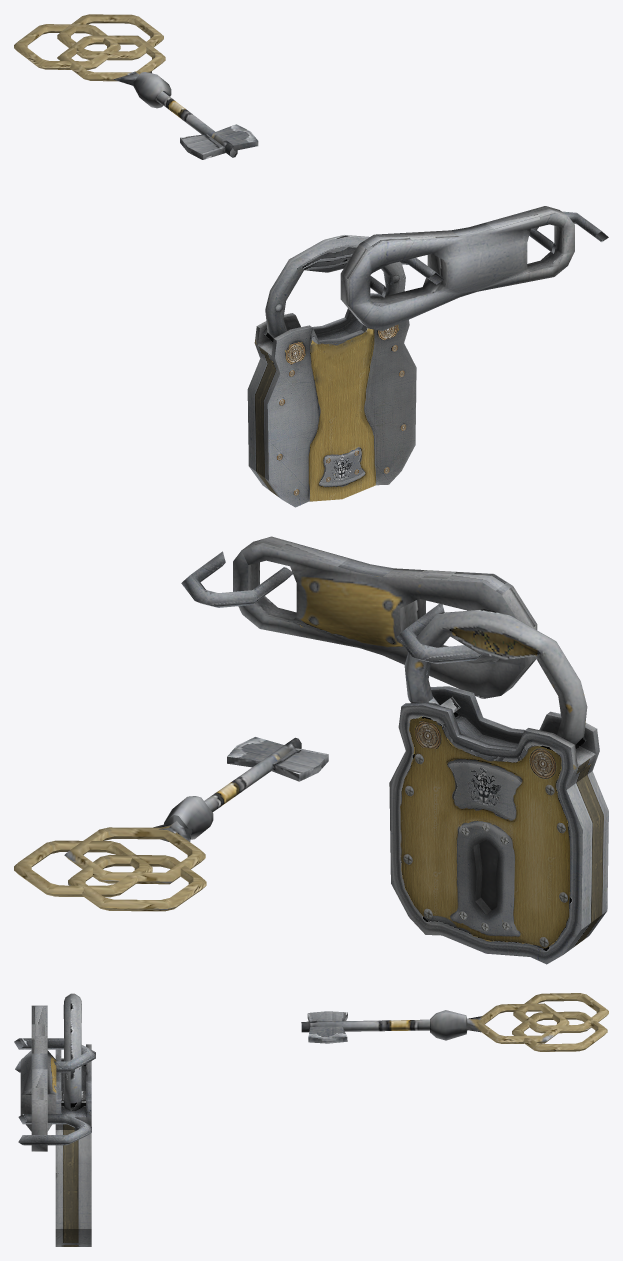
The model's file is keyset_3.FBX.
The picture shows the model from 3 angles, top to bottom: view 1: azimuth 30°, elevation 25°; view 2: azimuth 150°, elevation 25°; view 3: azimuth 270°, elevation 25°; orthographic projection. The views are drawn at different scales.
Visible parts, largest first — view 1: lock3_lod0, stoper3_lod0, key3_lod0, lockring3_lod0; view 2: lock3_lod0, stoper3_lod0, key3_lod0, lockring3_lod0; view 3: key3_lod0, stoper3_lod0, lock3_lod0, lockring3_lod0.
Part boxes in pixels (box(x1,y1,x2,y2)): lock3_lod0: box(247, 293, 416, 507); stoper3_lod0: box(340, 206, 608, 330); key3_lod0: box(14, 14, 258, 159); lockring3_lod0: box(265, 235, 405, 338); lock3_lod0: box(389, 686, 608, 964); stoper3_lod0: box(181, 536, 537, 698); key3_lod0: box(14, 737, 328, 911); lockring3_lod0: box(404, 609, 587, 744); key3_lod0: box(301, 993, 608, 1051); stoper3_lod0: box(14, 1005, 95, 1151); lock3_lod0: box(55, 1044, 91, 1246); lockring3_lod0: box(63, 993, 81, 1110).
Bounding box in the file's own units: 38.84 × 30.26 × 69.63.
